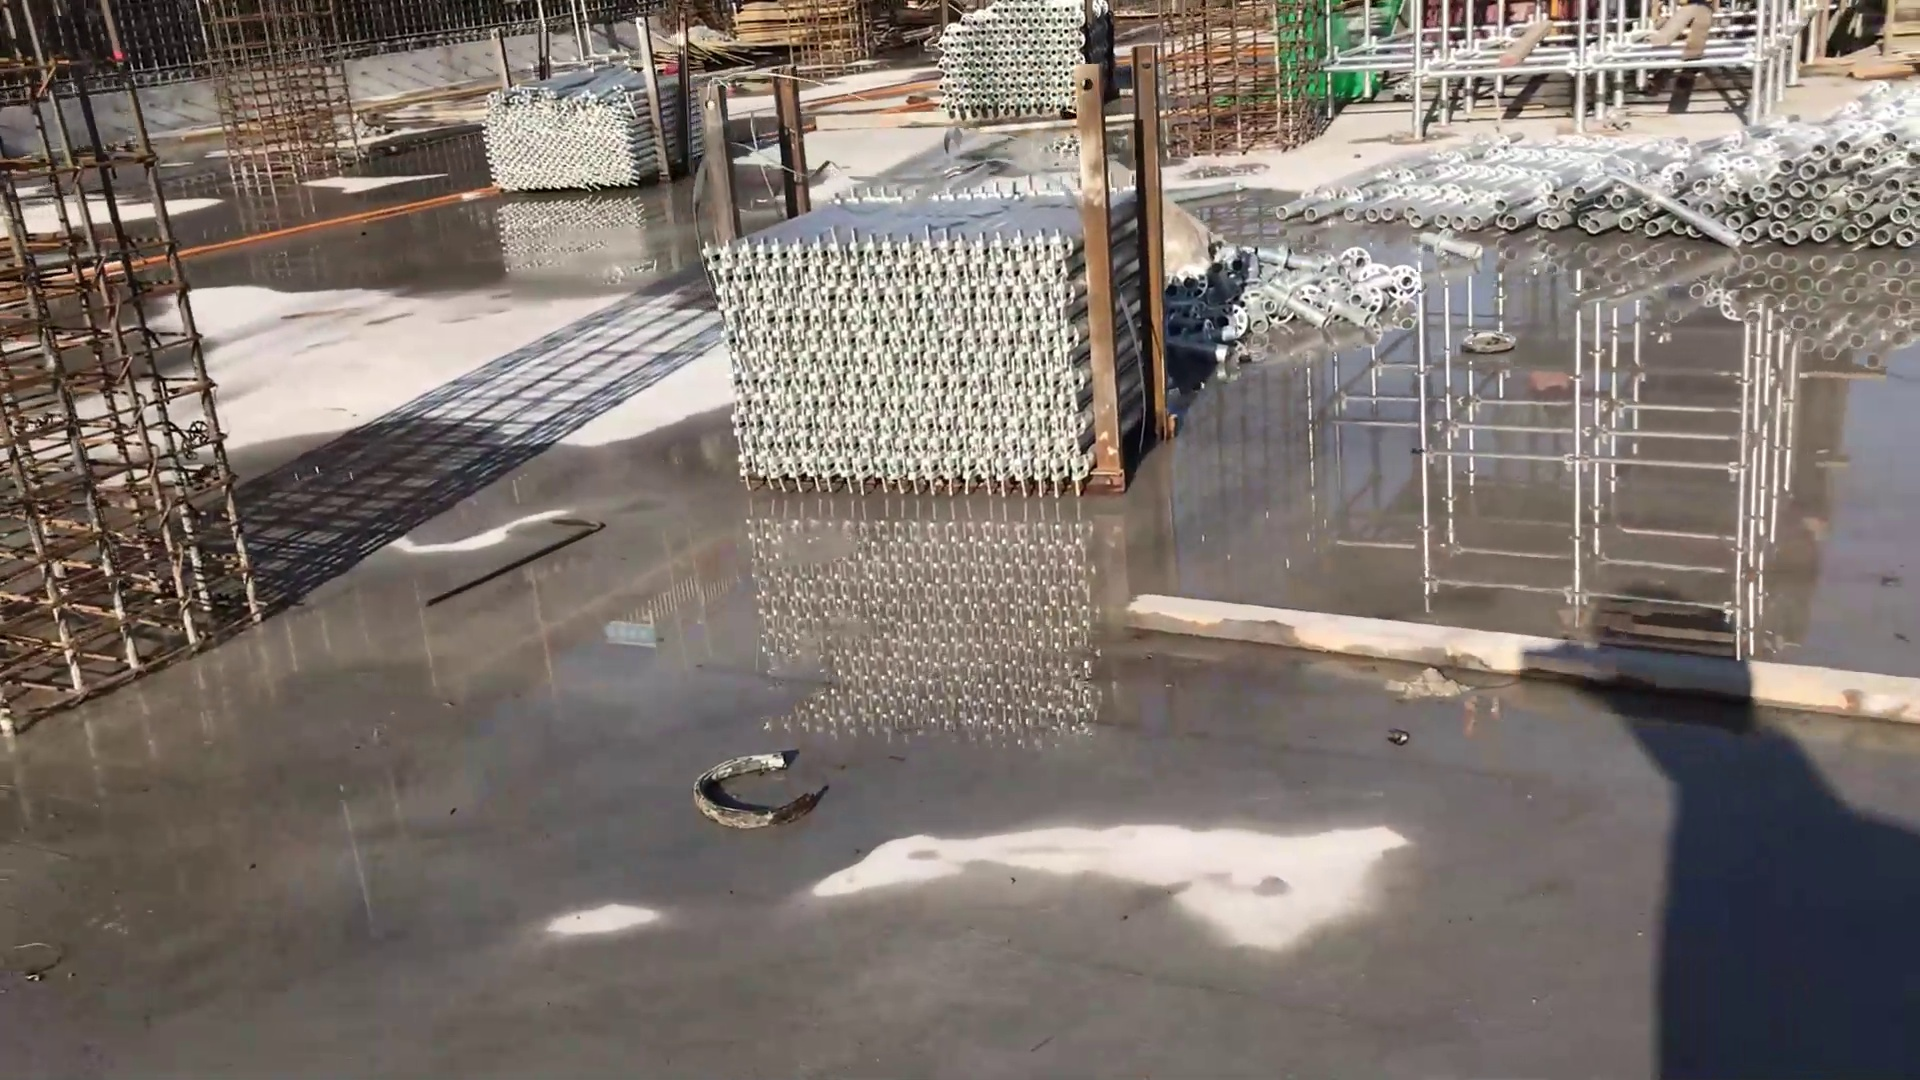scaffold: (684, 181, 1149, 509), (1280, 90, 1920, 276), (419, 65, 711, 198), (922, 11, 1174, 136)
